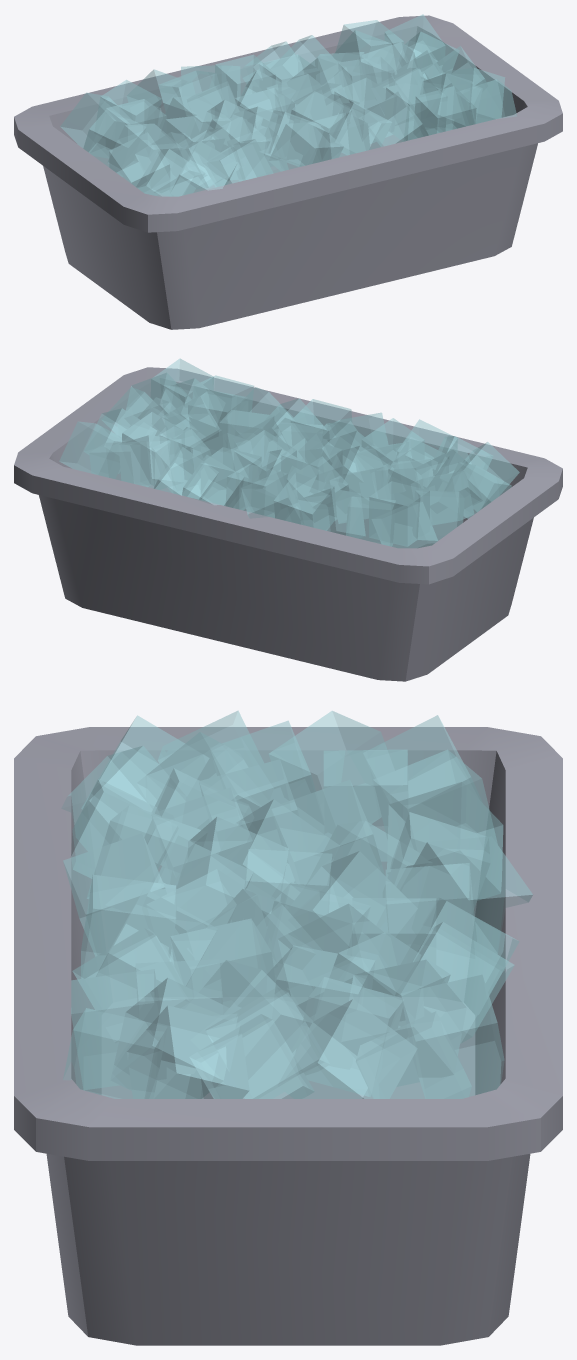
File: IceTray_geo.fbx
3 views of the same model, one above another, from view 1: azimuth 30°, elevation 25°; view 2: azimuth 150°, elevation 25°; view 3: azimuth 270°, elevation 25° (orthographic). The views are drawn at different scales.
Parts seen in each view (by area): view 1: IceTray_geo; view 2: IceTray_geo; view 3: IceTray_geo.
Boxes of the visible parts, x1,y1,x2,y2 form: IceTray_geo: (14,14,562,329); IceTray_geo: (14,358,562,681); IceTray_geo: (14,710,562,1345).
Bounding box in the file's own units: 0.9393 × 0.5445 × 0.3491.
